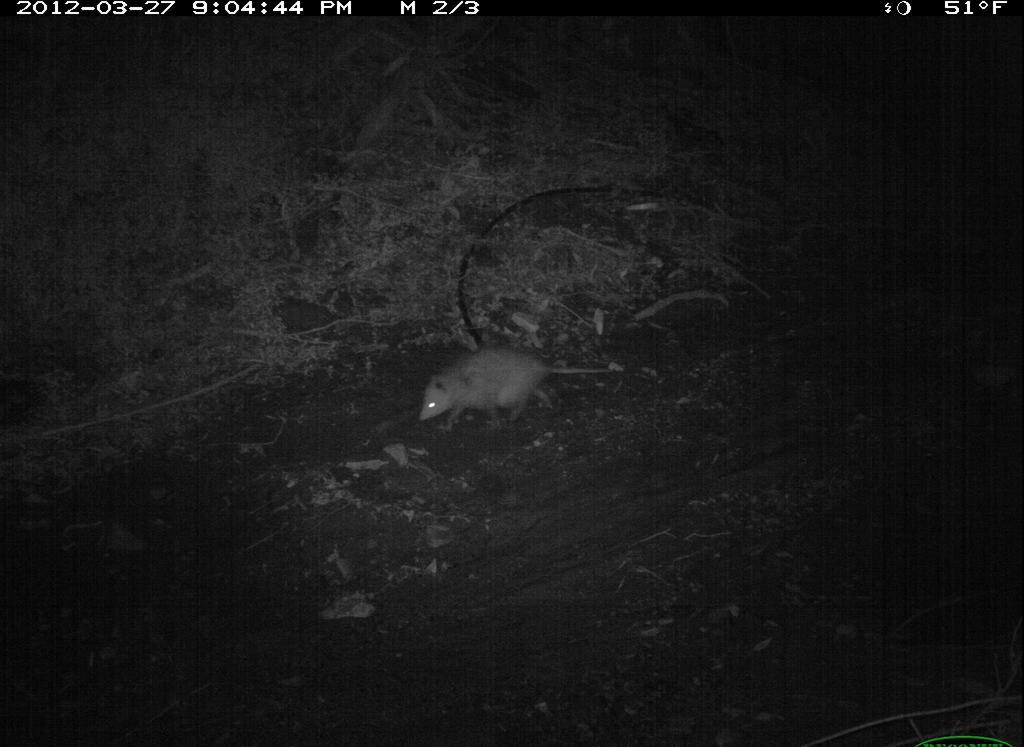opossum: (410, 329, 620, 442)
